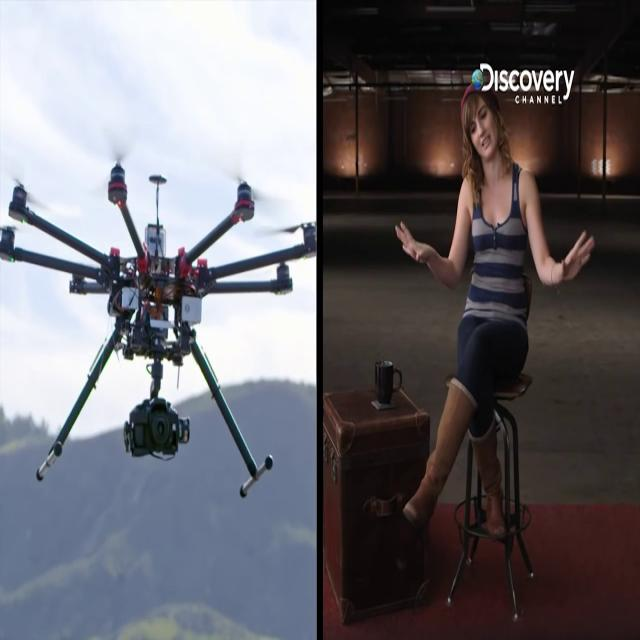drone: (1, 149, 318, 496)
